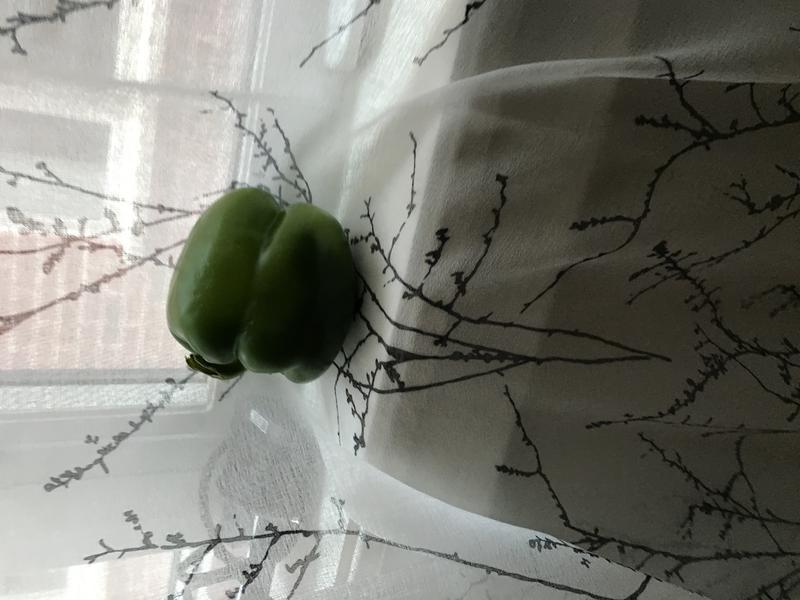green_pepper: (162, 180, 372, 399)
